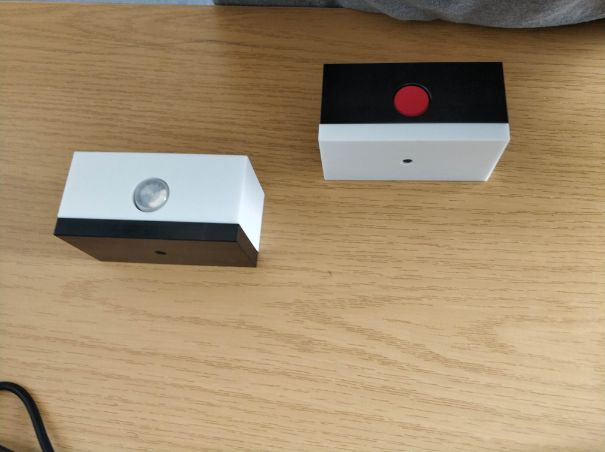black+white+silver: (51, 149, 268, 270)
white+black+red: (316, 60, 514, 183)
